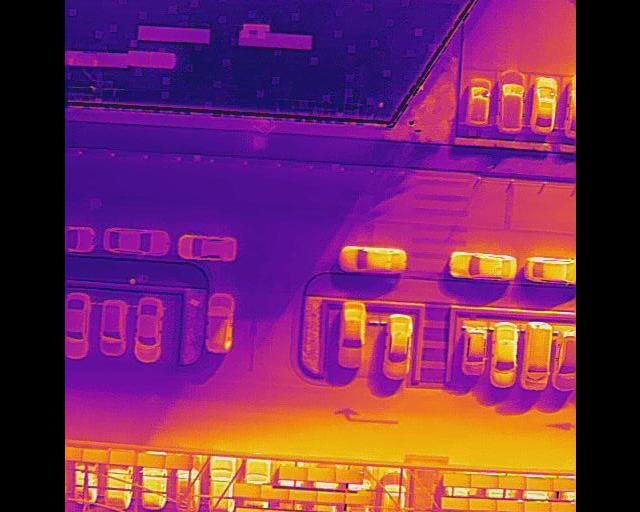Cell: (334, 469, 362, 483), (494, 500, 522, 512), (551, 502, 575, 512)
Cell-Multi: (523, 501, 550, 512)
No-Anomaly: (80, 449, 109, 464), (232, 484, 260, 499), (136, 453, 164, 468), (109, 450, 136, 465), (525, 477, 553, 491), (497, 476, 526, 489), (164, 456, 190, 470), (279, 467, 307, 480), (470, 475, 497, 488), (467, 499, 496, 511), (288, 490, 315, 502), (307, 469, 334, 481), (440, 498, 467, 510), (443, 474, 470, 486), (316, 492, 345, 503), (260, 489, 288, 500), (235, 508, 264, 512)
